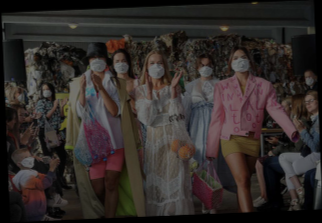with_mask: (147, 58, 166, 79), (230, 52, 249, 73), (88, 54, 107, 73), (112, 57, 130, 74), (197, 60, 213, 78), (20, 153, 35, 169), (41, 86, 53, 99), (303, 74, 315, 86), (17, 90, 25, 102)
without_mask: (304, 96, 317, 113), (9, 115, 17, 131), (18, 110, 27, 124)
